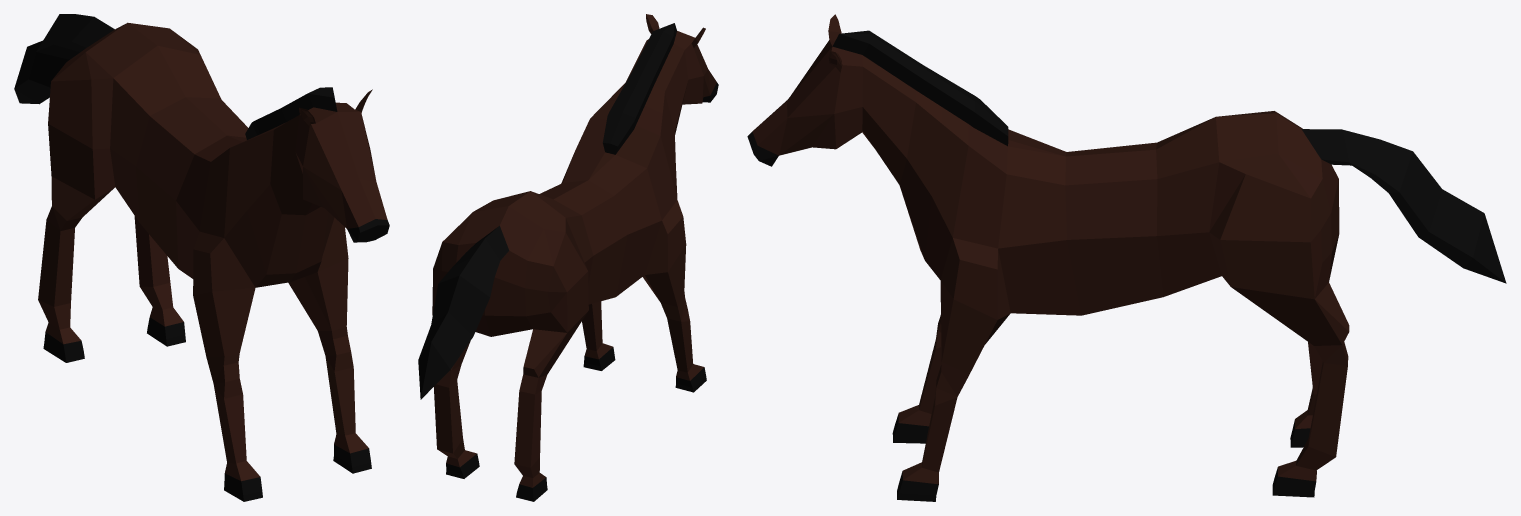
File: Horse_000030.obj
3 renders of one model, left to right at view 1: azimuth 30°, elevation 25°; view 2: azimuth 150°, elevation 25°; view 3: azimuth 270°, elevation 25°, orthographic. The views are drawn at different scales.
Parts seen in each view (by area): view 1: Horse_Cylinder; view 2: Horse_Cylinder; view 3: Horse_Cylinder.
Part boxes in pixels (x1,y1,x2,y2): Horse_Cylinder: (14, 14, 389, 501); Horse_Cylinder: (418, 14, 718, 501); Horse_Cylinder: (747, 14, 1506, 501).
Size of the model in its own units: 2.56 by 6.53 by 10.35.
